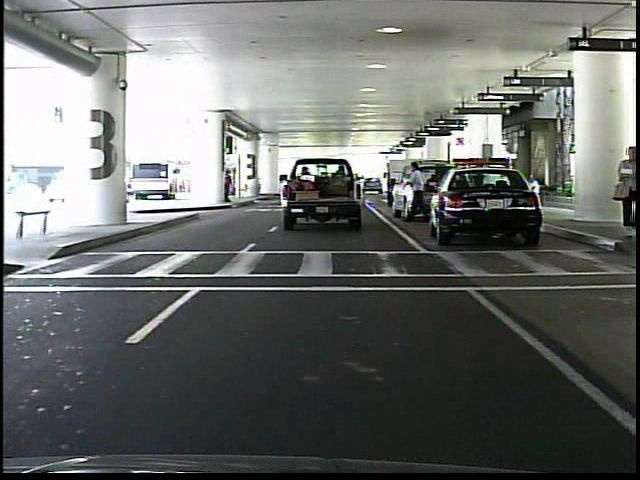person: (611, 146, 636, 240), (408, 158, 429, 226)
